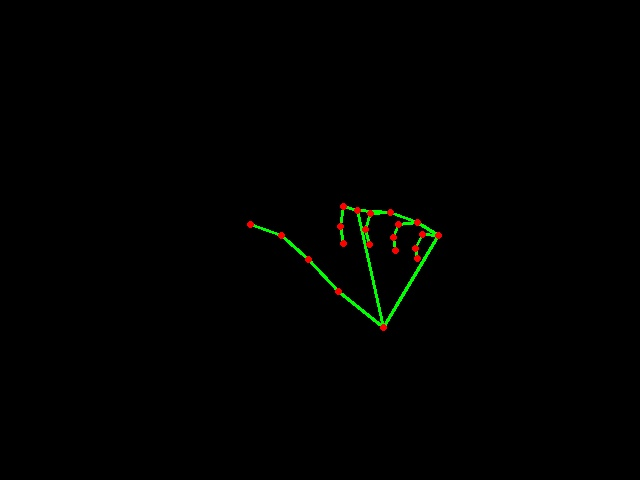right: (227, 185, 448, 342)
